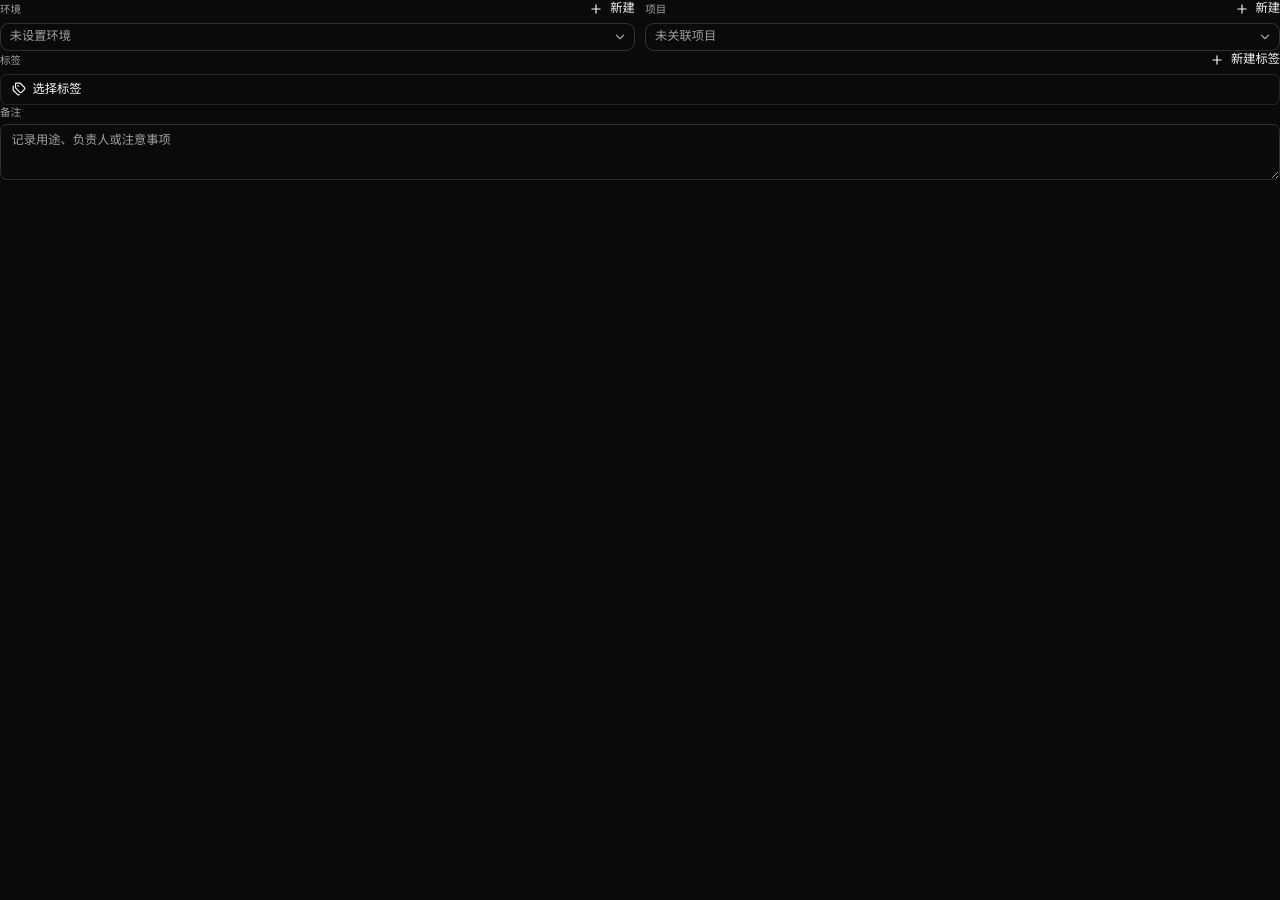
Scenario: SessionAssetFields › keeps the quick-create dialog open and reports errors
Click the 1st button "新建" at coordinates (612, 9), box top-left (589, 0), bottom-right (635, 18)
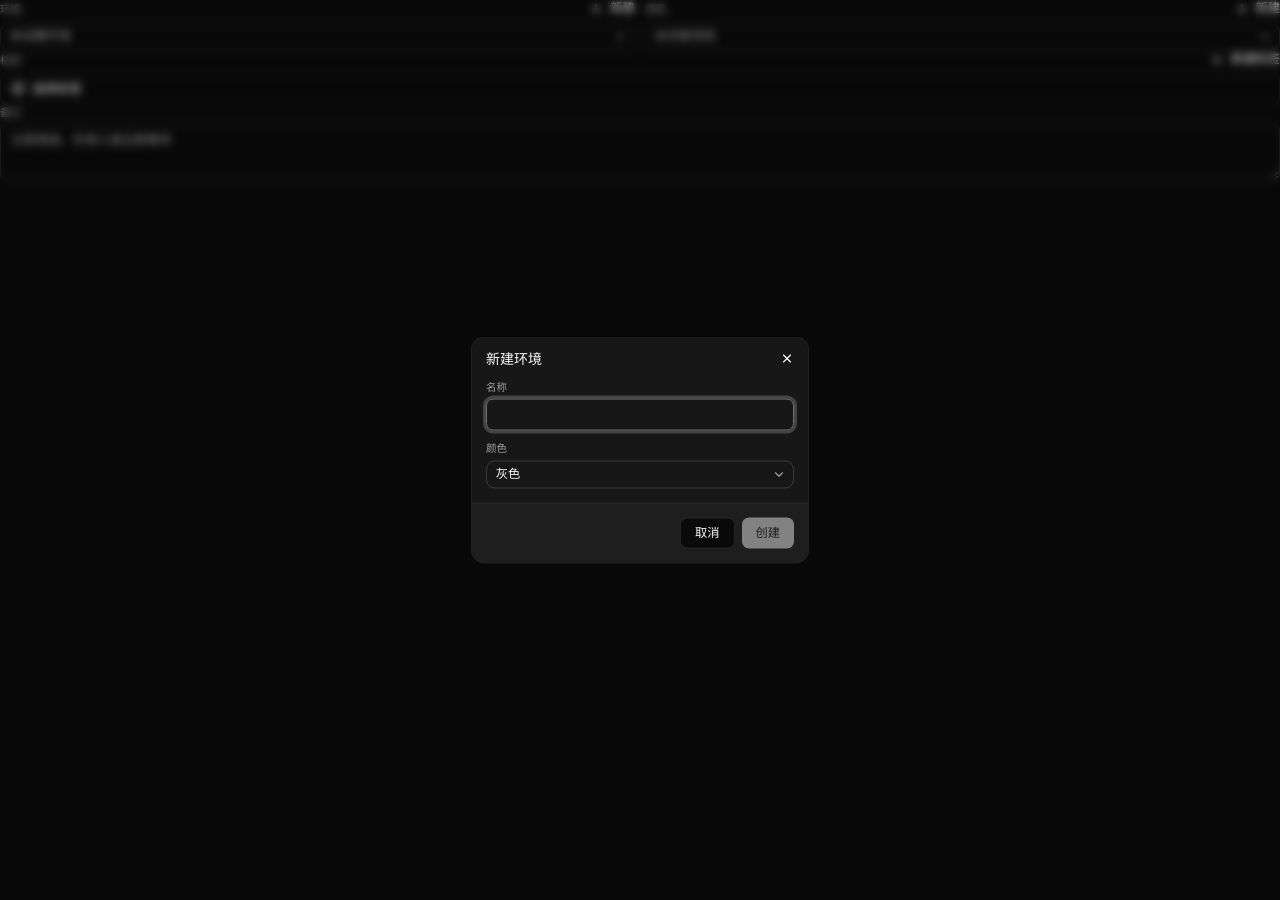
Type "重复" into the field labelled "名称" at coordinates (640, 415), box top-left (486, 399), bottom-right (794, 430)
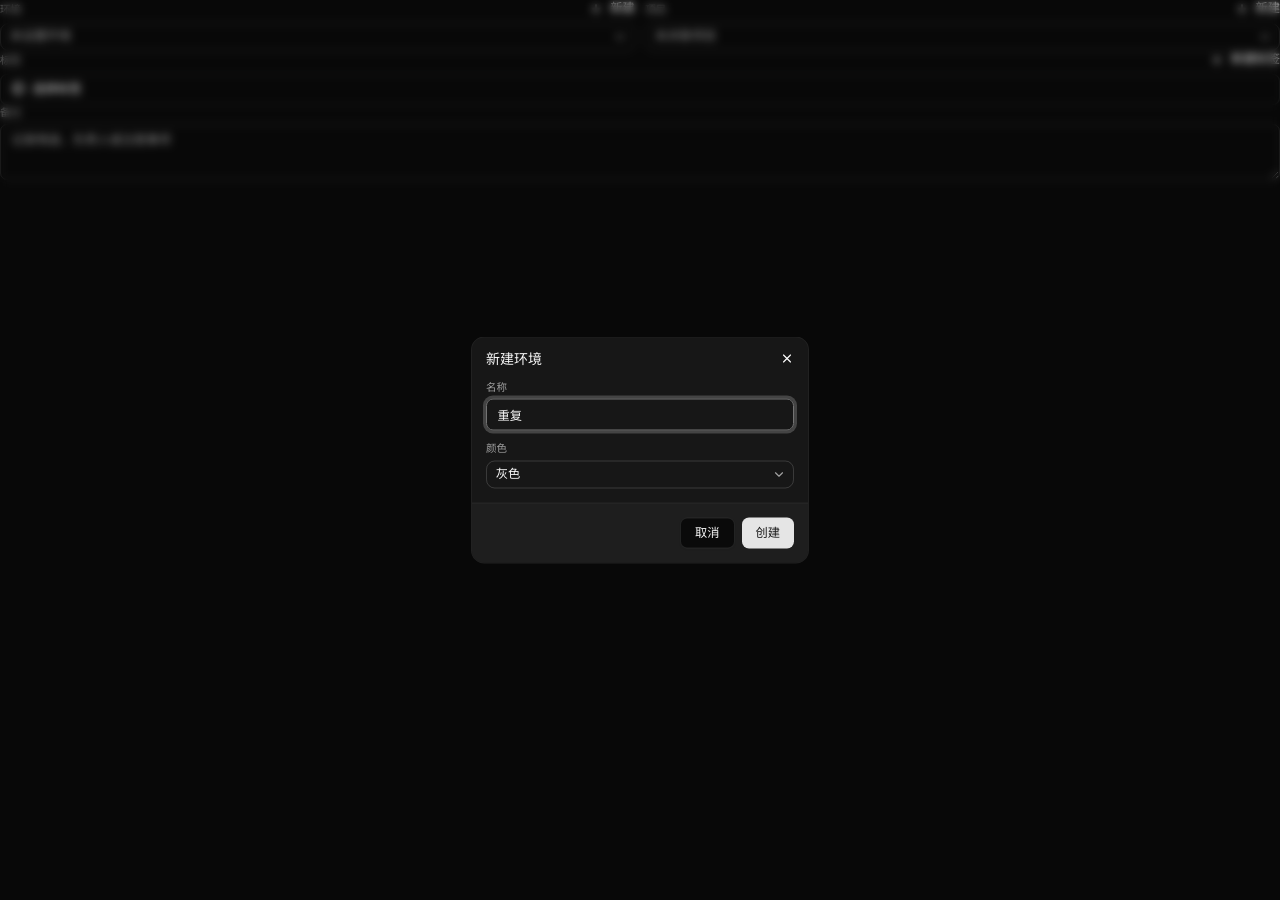
Click the button "创建" at coordinates (768, 533), box top-left (742, 517), bottom-right (794, 548)
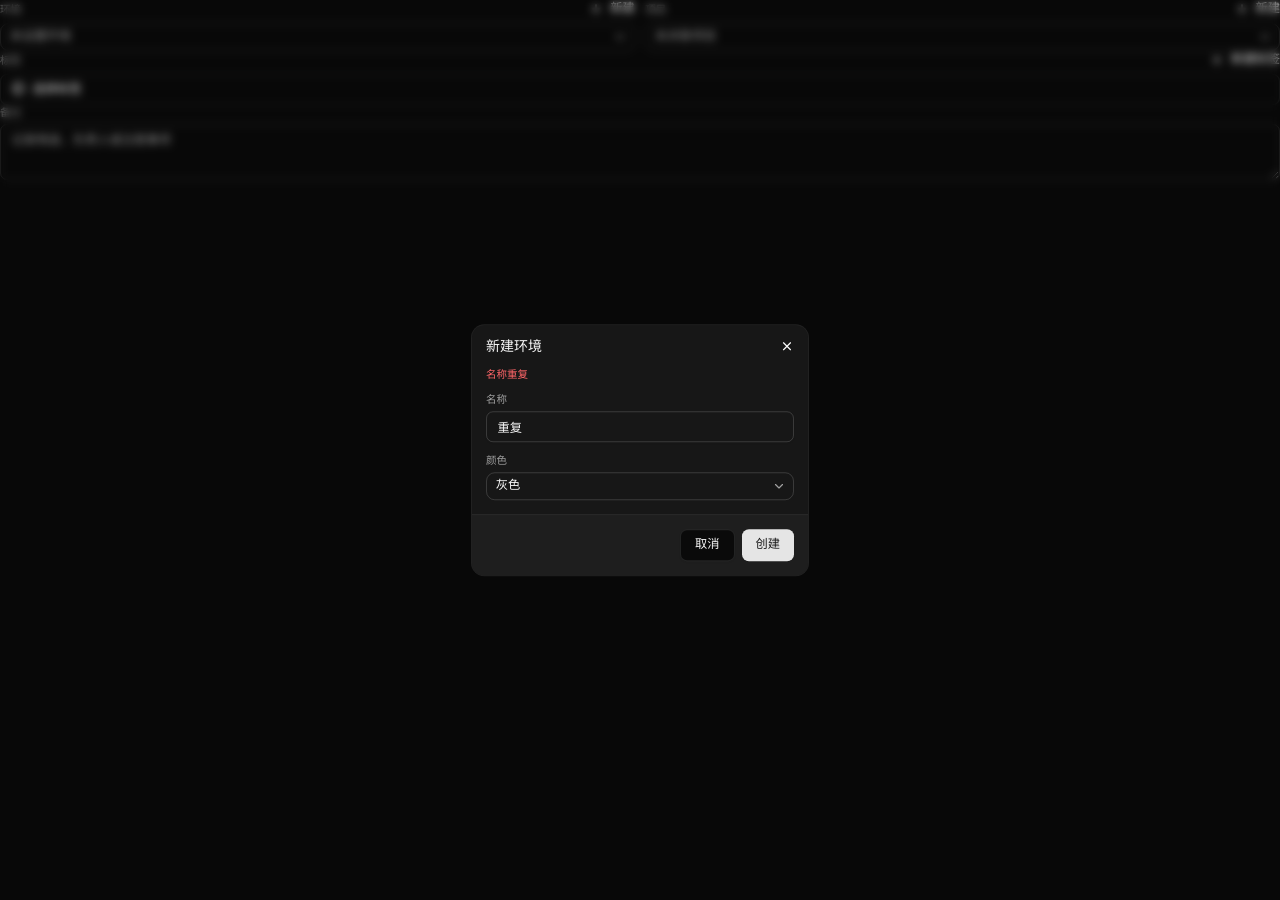
Expected: the dialog is shown, top-left (472, 325), bottom-right (808, 575)
Expected: the message reads "名称重复", top-left (486, 368), bottom-right (528, 380)
